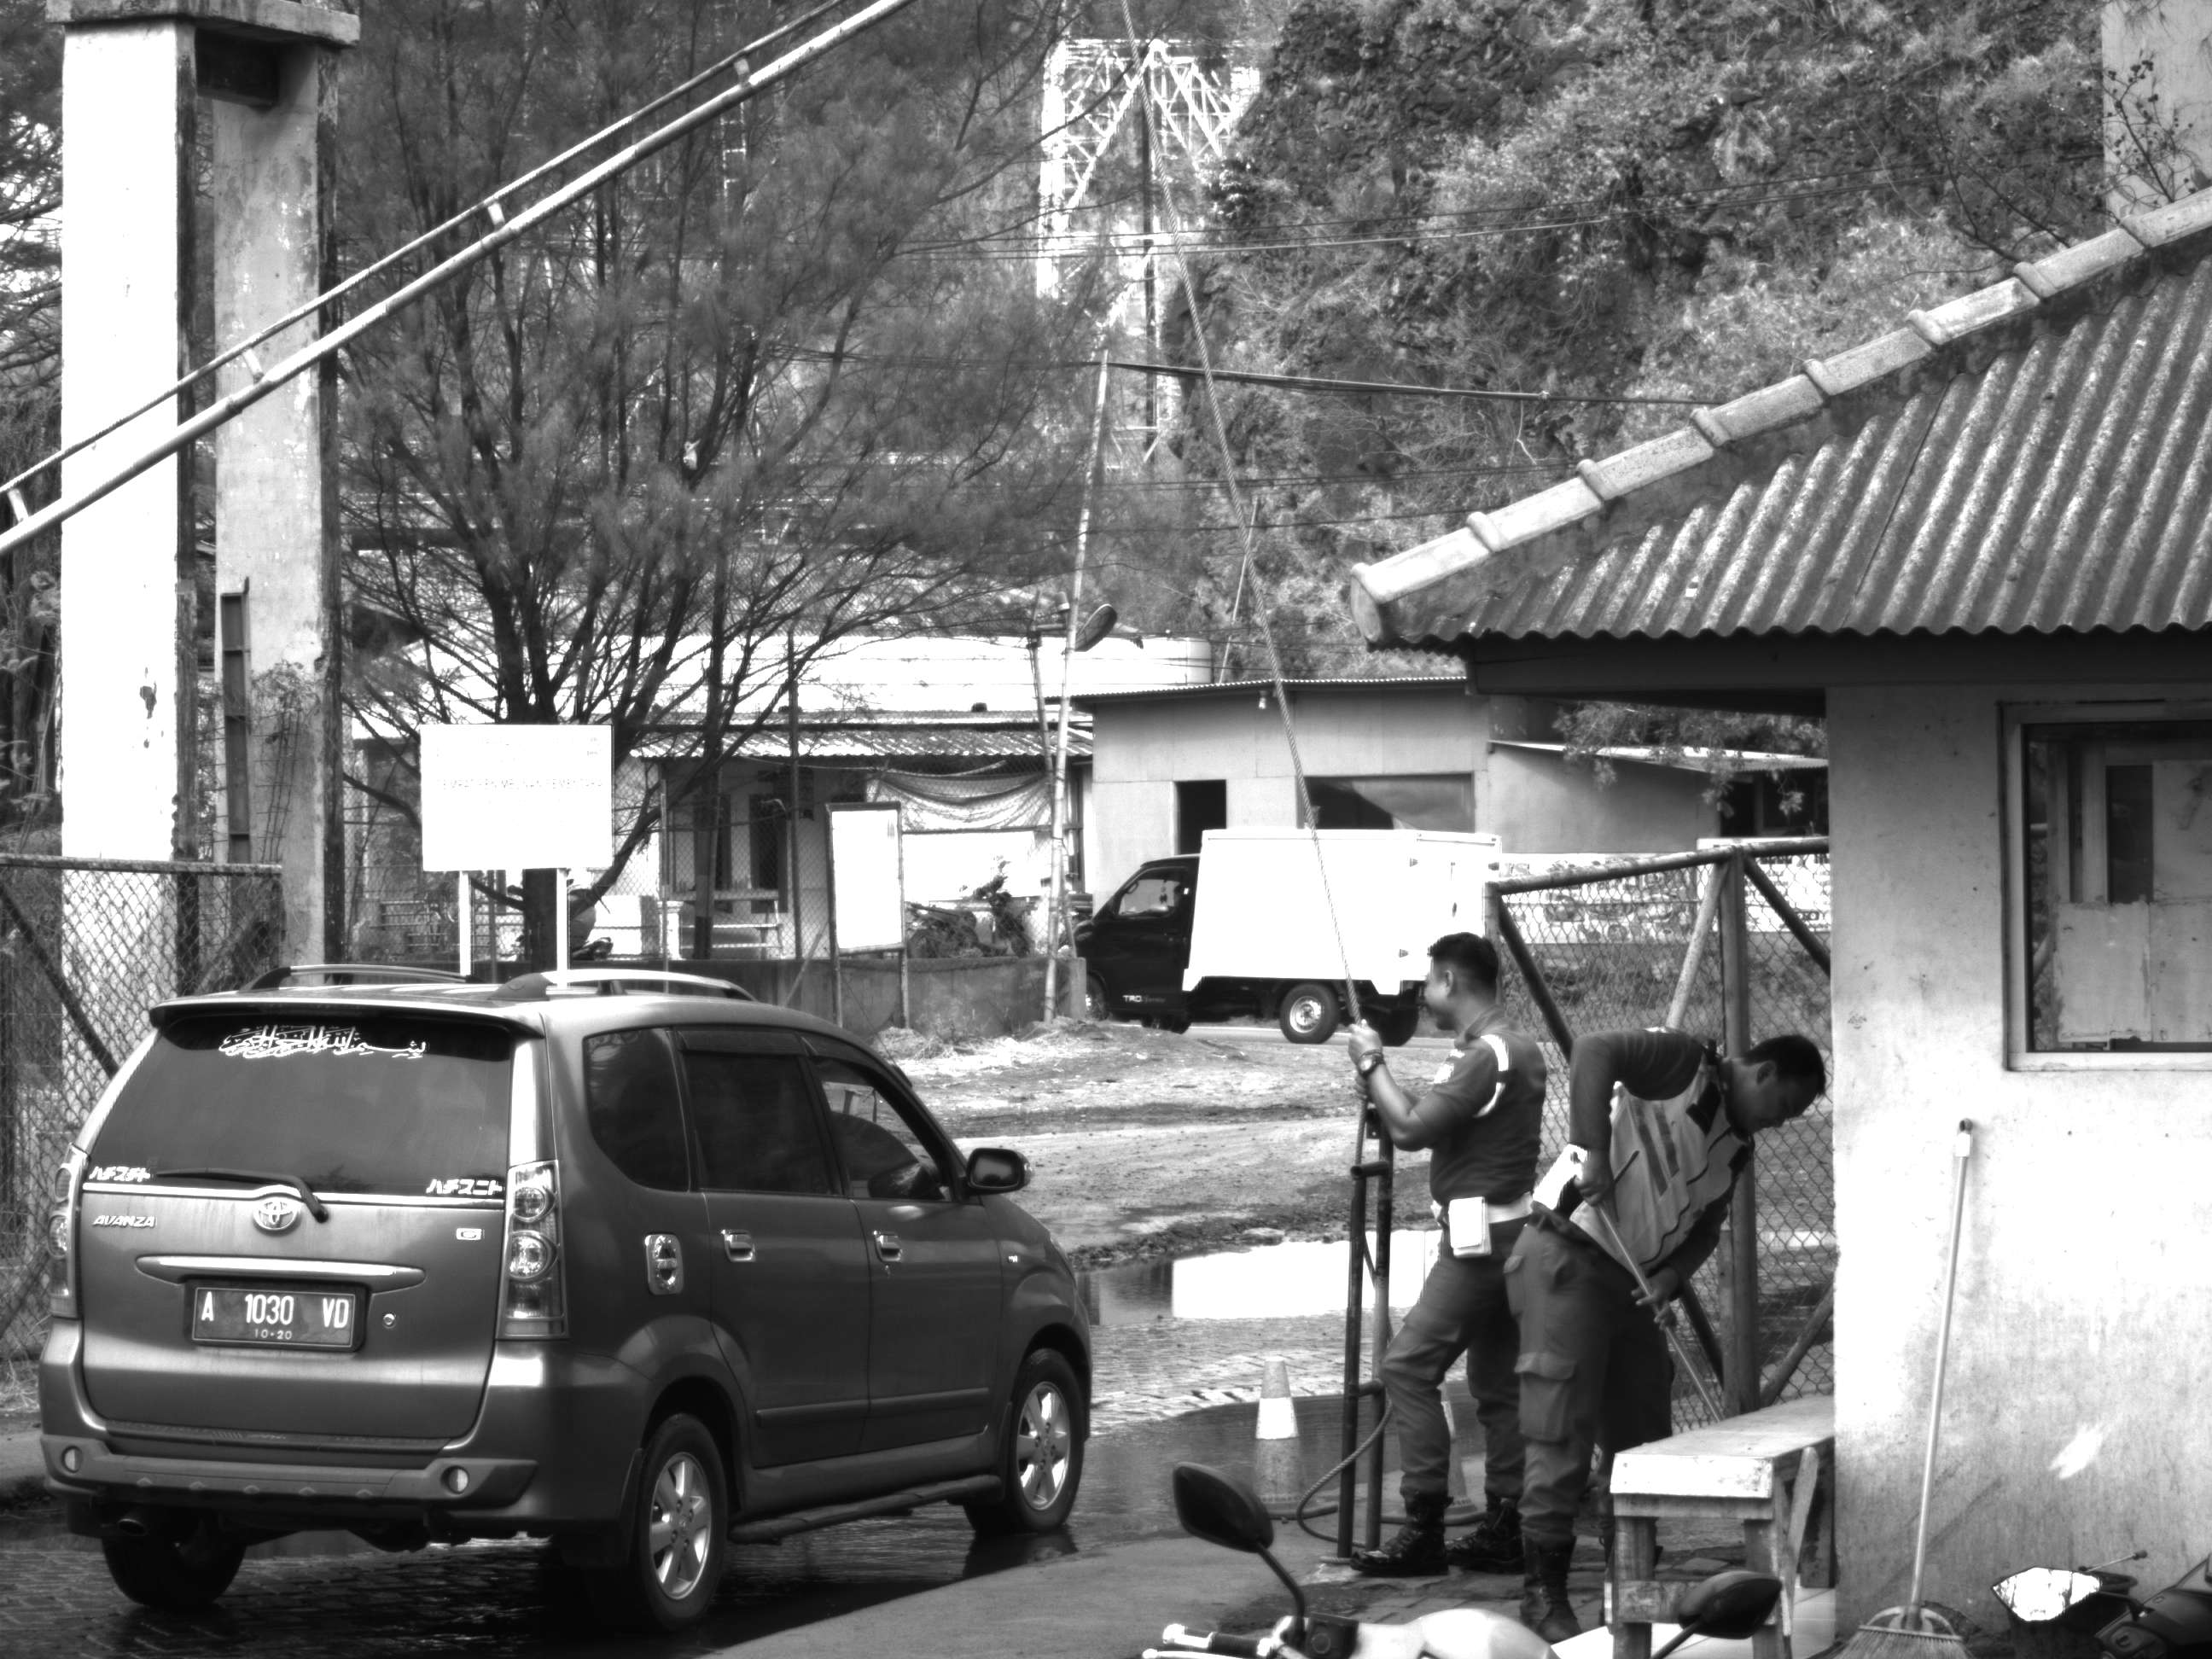day_small_rear: (31, 962, 738, 1638)
plate: (189, 1289, 354, 1351)
